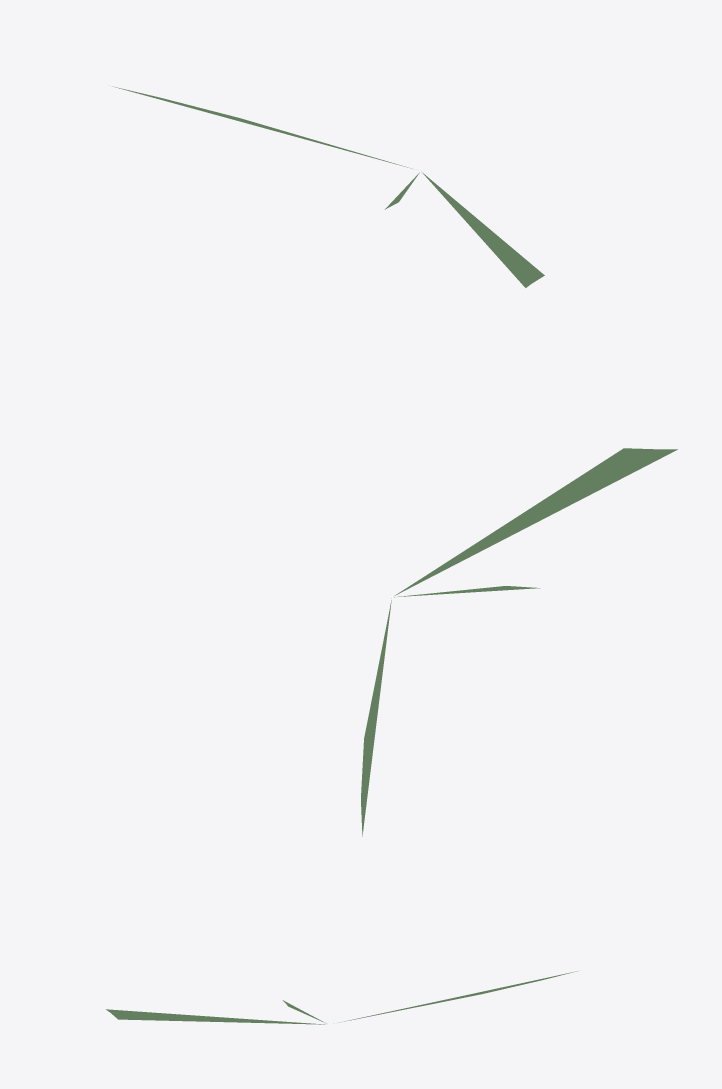
File: c_1646_17815_forest.glb
3 renders of one model, top to bottom at view 1: azimuth 30°, elevation 25°; view 2: azimuth 150°, elevation 25°; view 3: azimuth 270°, elevation 25°, orthographic. The views are drawn at different scales.
Visible parts, largest first — view 1: geometry_0; view 2: geometry_0; view 3: geometry_0.
Part boxes in pixels (x1=…): geometry_0: x1=112, y1=86, x2=544, y2=287; geometry_0: x1=361, y1=448, x2=677, y2=836; geometry_0: x1=106, y1=970, x2=579, y2=1024.
Bounding box in the file's own units: 99.89 × 0 × 258.
